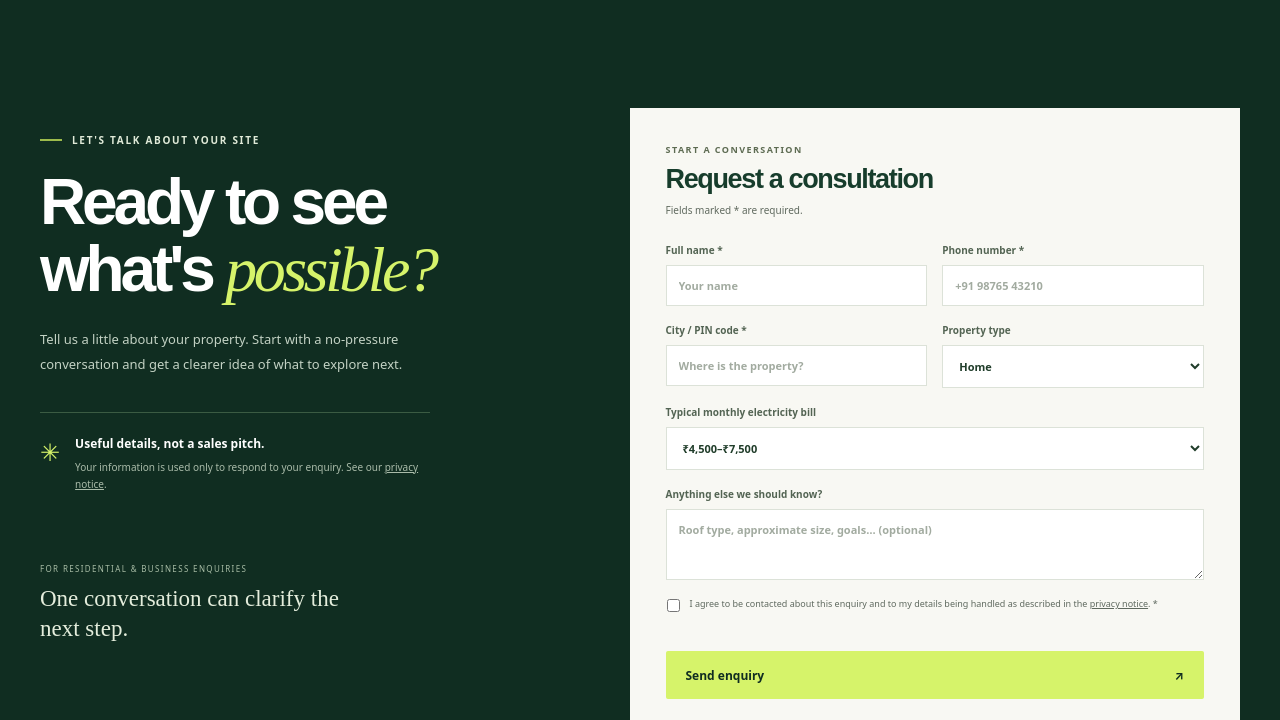
Contact form › blocks an empty submit, shows field errors and sends nothing
Click the button "Send enquiry ↗" at (725, 675), box [666,651,1204,699]
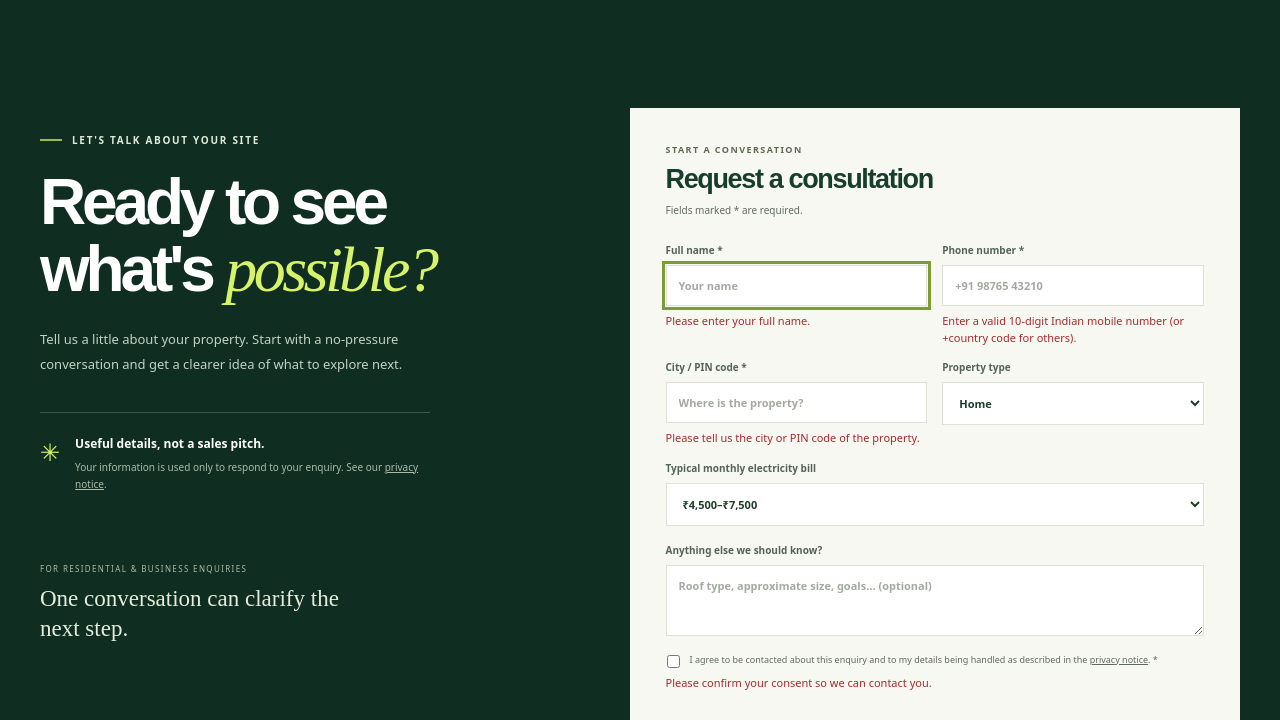
Expected: the text "Please enter your full name." is shown, [666,313,810,328]
Expected: the text "Enter a valid 10-digit Indian mobile number (or +country code for others)." is shown, [942,313,1204,346]
Expected: the text "Please confirm your consent so we can contact you." is shown, [666,674,932,690]
